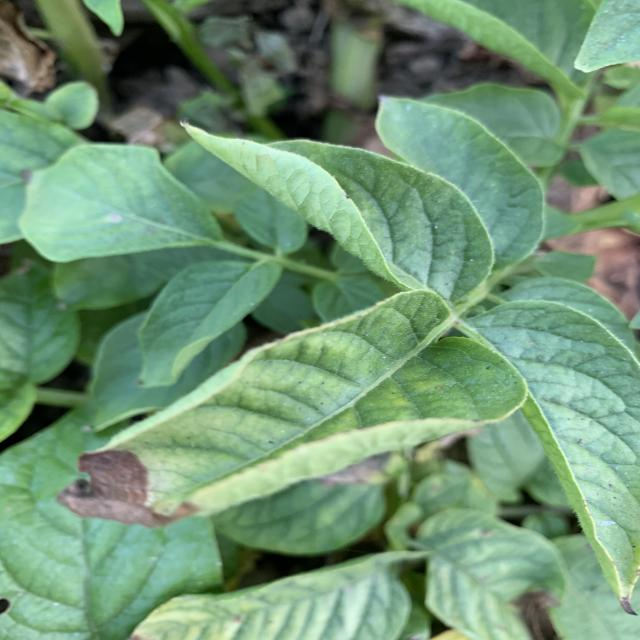lateblight: (57, 450, 195, 526), (513, 590, 558, 640)
